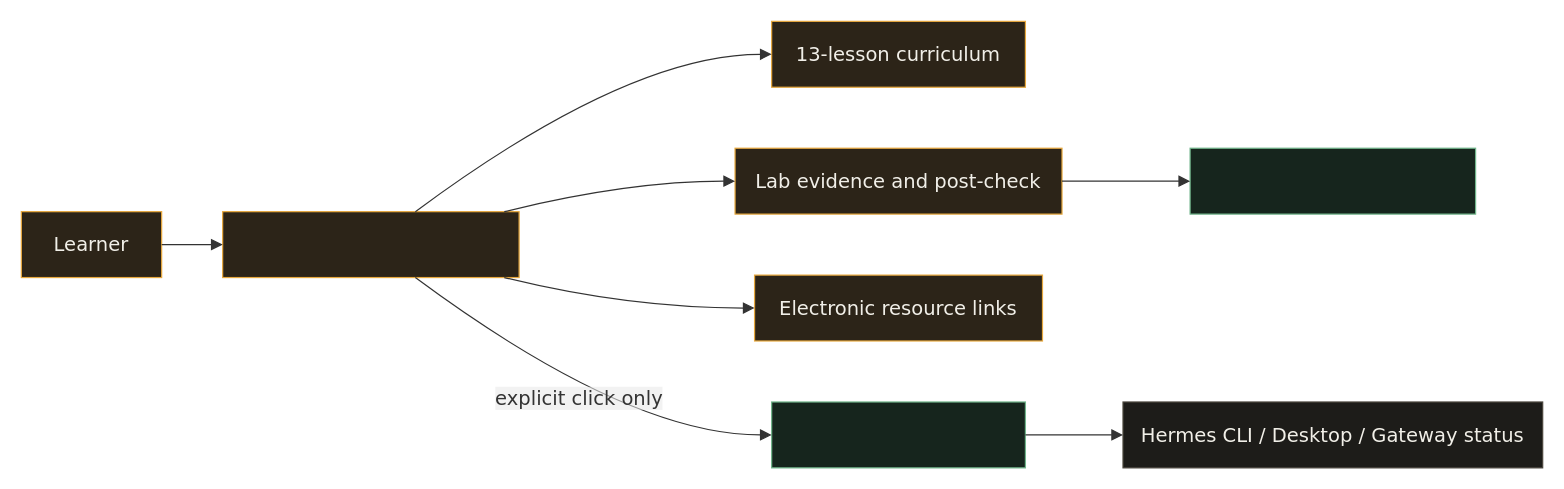
Image size: 1564x489. Some labels were removed from this diagram. Here are the shapes that lost their labels. From the top down, the centre of each, then its label:
the point at 1332,180: localStorage v3 progress
the point at 370,244: React learning workspace
the point at 897,434: Vite read-only probe
